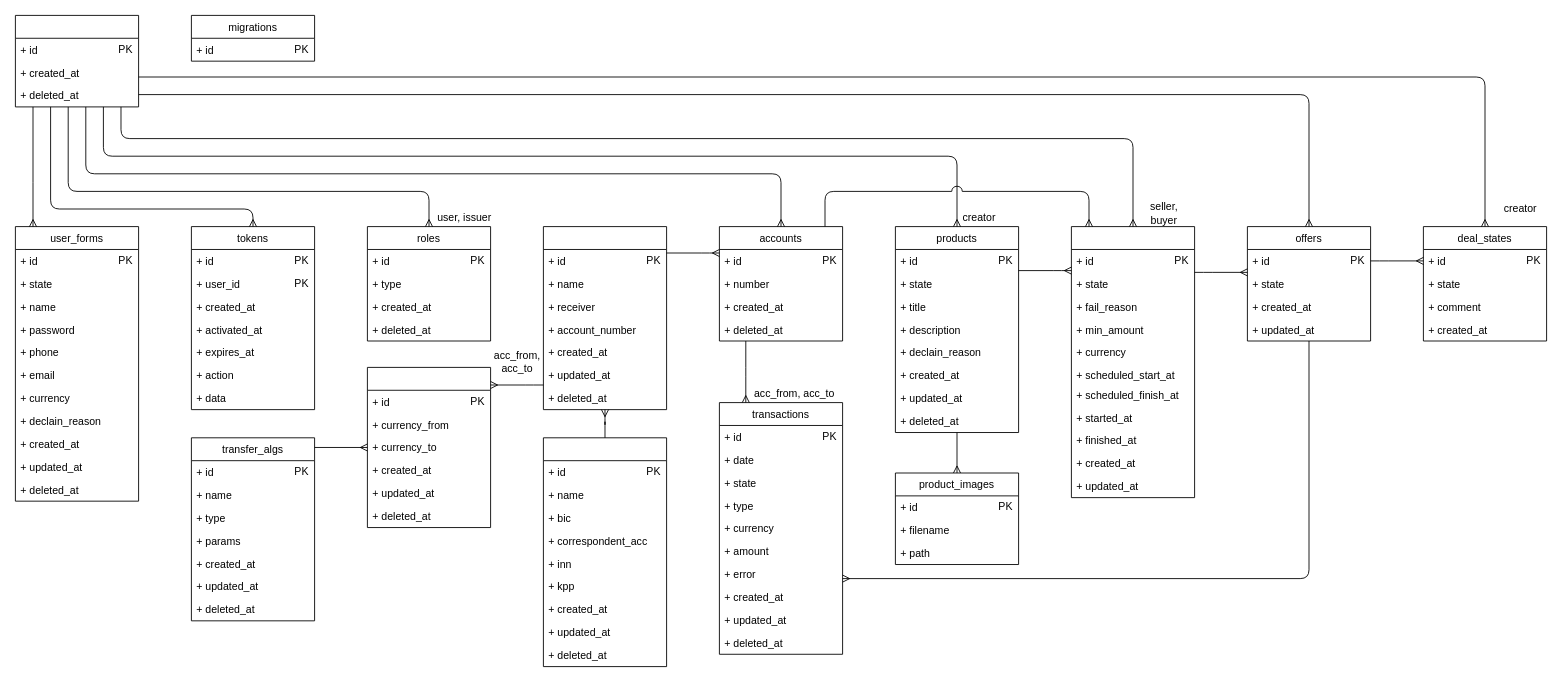
The diagram is 1562 pixels wide and 685 high, and some of its shapes have lost their labels. The shapes that lost their labels are listed below. From the top down, each one's box as (x1, y1, x2, y2) in pixels, then its label:
(15, 15, 139, 107): users
(543, 226, 667, 410): nominal_accounts
(1071, 226, 1195, 498): auctions
(367, 367, 491, 528): transfers
(543, 437, 667, 667): banks
